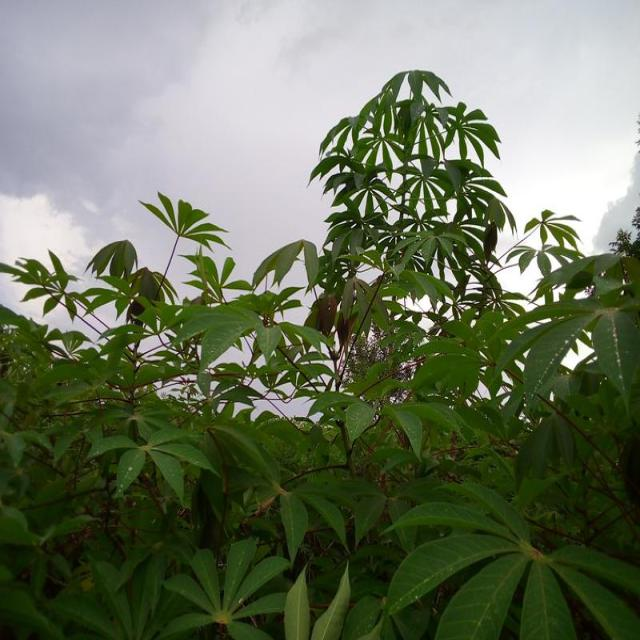cassava leaf: (1, 68, 638, 638)
